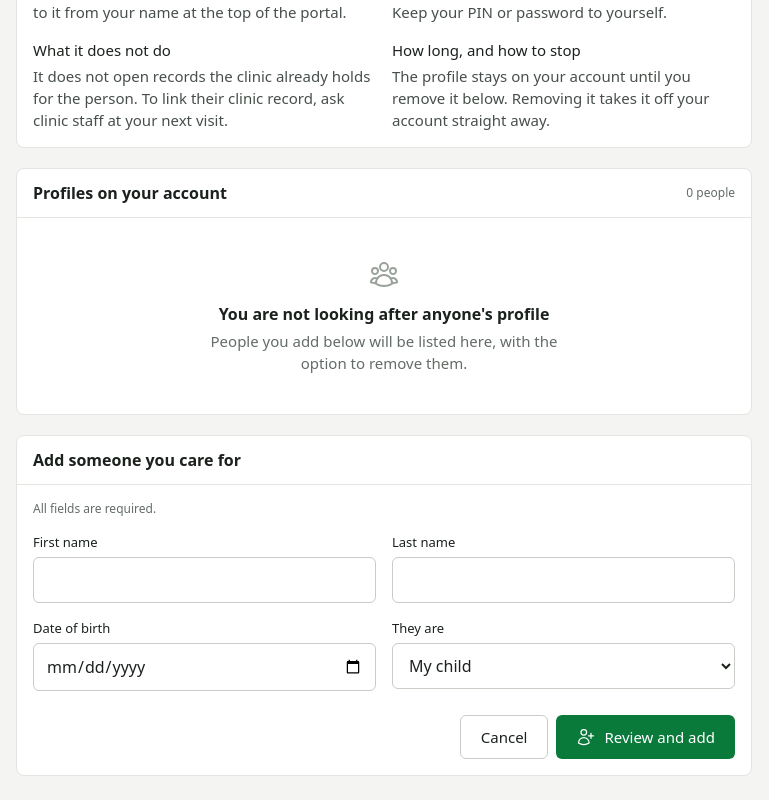
CaregiverSetup › shows its labels and form errors in words, not keys
The image size is (769, 800).
(page scrolled)
expect the text "You are not looking after anyone's profile" is shown: met, box [219,302,549,326]
Click the button "Review and add" at [646, 737], box [556,715,735,759]
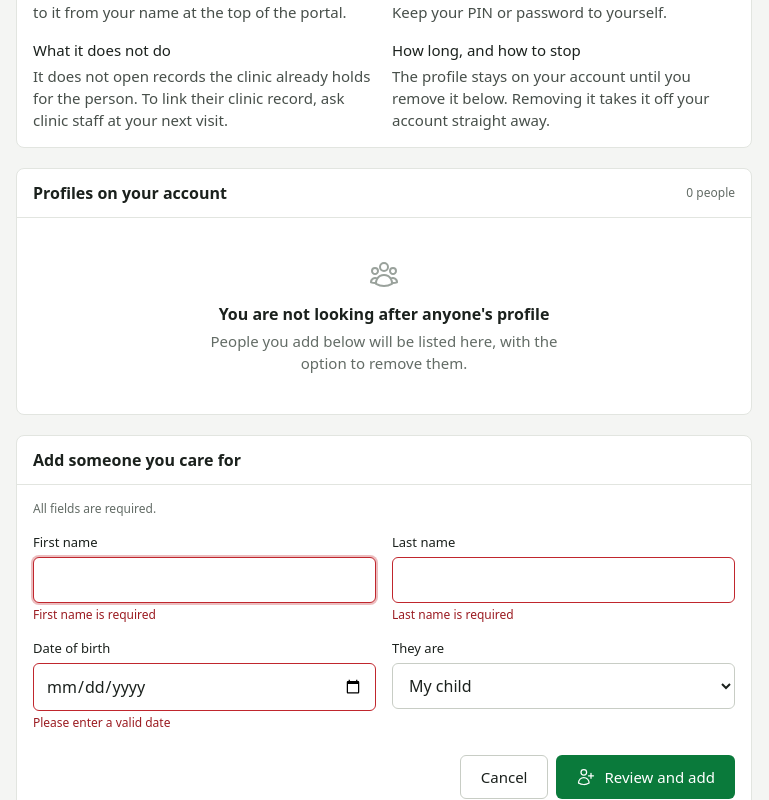
expect the text "First name is required" is shown: met, box [33,606,156,623]
expect the text "Last name is required" is shown: met, box [392,606,514,623]
